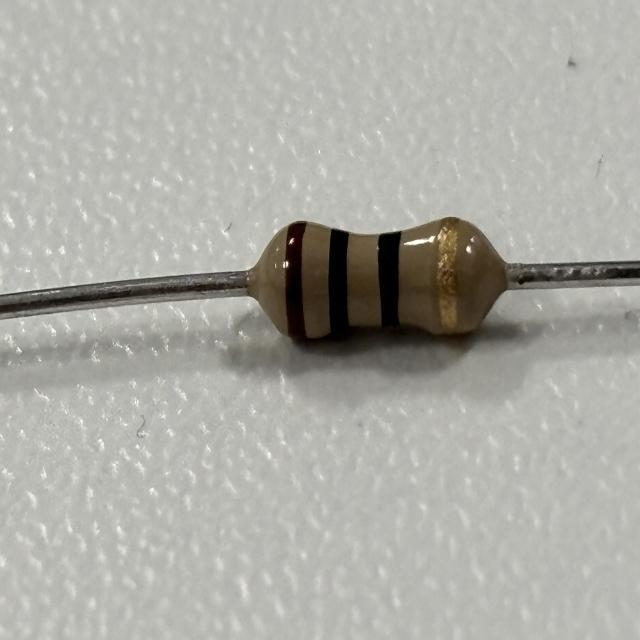resistor: (264, 211, 504, 352)
